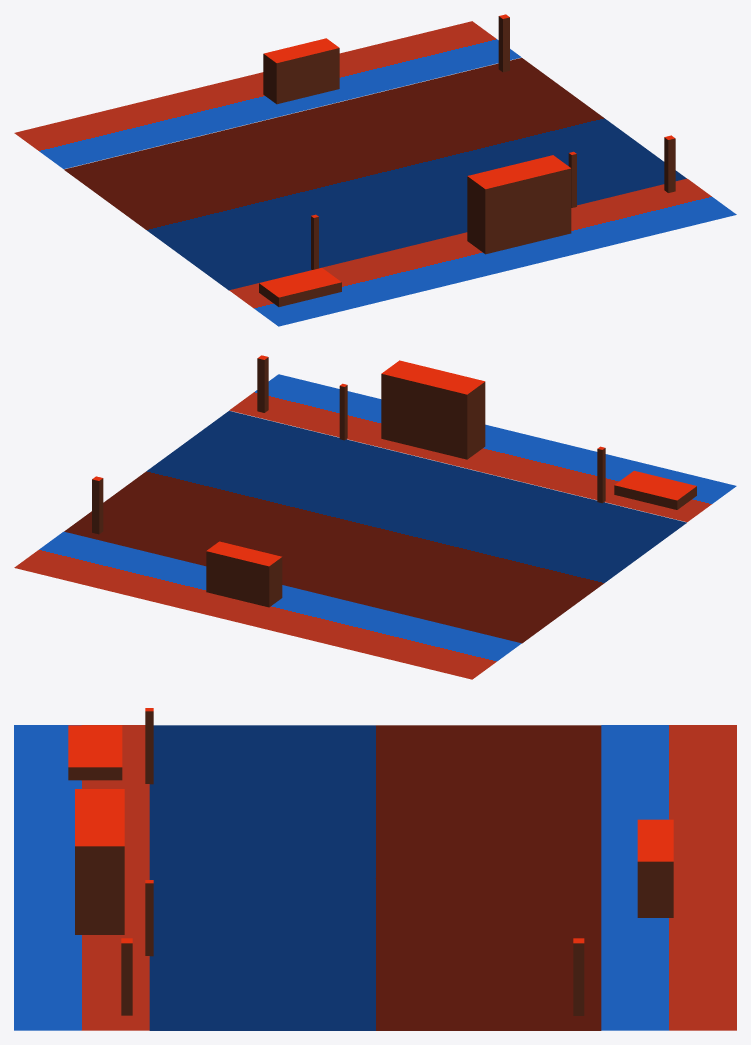
File: district.gltf
3 renders of one model, top to bottom at view 1: azimuth 30°, elevation 25°; view 2: azimuth 150°, elevation 25°; view 3: azimuth 270°, elevation 25°, orthographic. The views are drawn at different scales.
Visible parts, largest first — view 1: WestRoadAndSidewalks, DepotBody, SouthLandmark, PlayerPlaza, SouthGatePost, NorthGatePost; view 2: WestRoadAndSidewalks, DepotBody, SouthLandmark, PlayerPlaza, SouthGatePost, NorthGatePost; view 3: WestRoadAndSidewalks, DepotBody, SouthLandmark, PlayerPlaza, NorthGatePost, SouthGatePost, PlayerPlazaBeacon, DepotBeacon.
Part boxes in pixels (<box>): WestRoadAndSidewalks: <box>14,21,736,326</box>; DepotBody: <box>467,155,571,254</box>; SouthLandmark: <box>263,38,339,104</box>; PlayerPlaza: <box>259,268,341,306</box>; SouthGatePost: <box>498,14,509,72</box>; NorthGatePost: <box>664,135,675,192</box>; WestRoadAndSidewalks: <box>14,374,736,679</box>; DepotBody: <box>381,360,485,459</box>; SouthLandmark: <box>206,541,282,607</box>; PlayerPlaza: <box>614,470,696,509</box>; SouthGatePost: <box>92,476,103,534</box>; NorthGatePost: <box>257,355,268,412</box>; WestRoadAndSidewalks: <box>14,725,736,1030</box>; DepotBody: <box>75,789,124,934</box>; SouthLandmark: <box>637,819,673,917</box>; PlayerPlaza: <box>68,725,122,780</box>; NorthGatePost: <box>121,938,132,1015</box>; SouthGatePost: <box>573,938,584,1015</box>; PlayerPlazaBeacon: <box>145,708,153,784</box>; DepotBeacon: <box>145,880,153,956</box>.
Bounding box in the file's own units: 16 × 2.2 × 16.
Materials: 4 (4 with a texture image).
